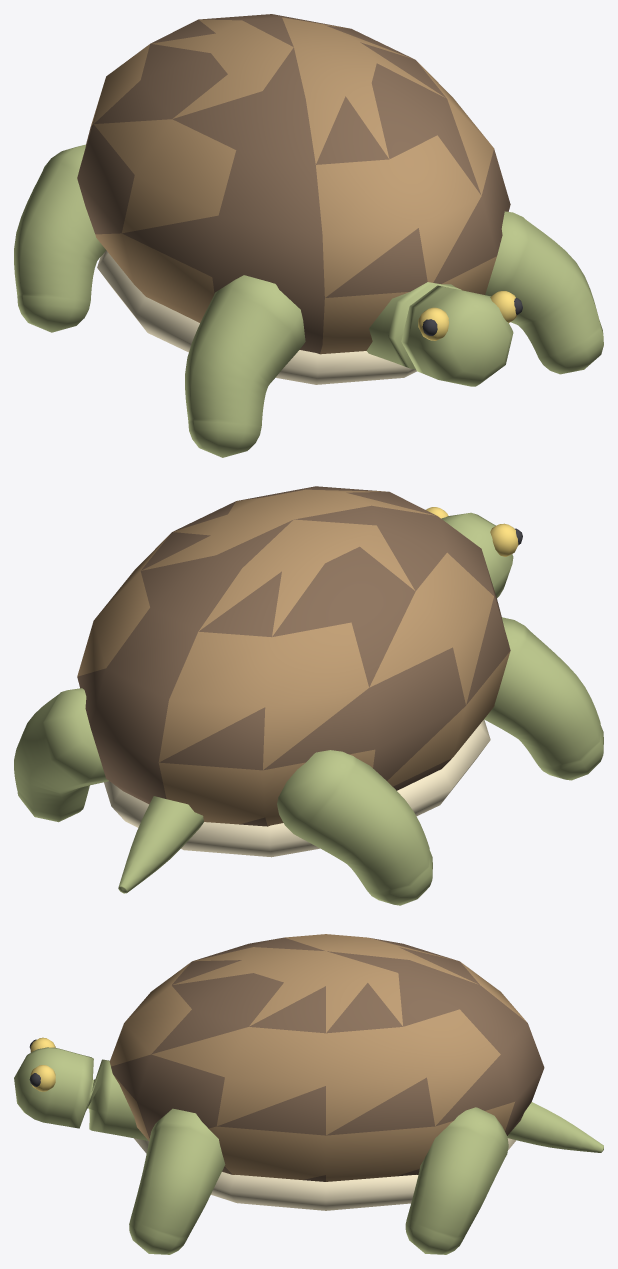
File: reptiles-amphibians-and-minibeasts-galapagos-giant-tor-c38aae69__22443.glb
3 renders of one model, top to bottom at view 1: azimuth 30°, elevation 25°; view 2: azimuth 150°, elevation 25°; view 3: azimuth 270°, elevation 25°, orthographic. The views are drawn at different scales.
Parts seen in each view (by area): view 1: galapagos-giant-tortoise; view 2: galapagos-giant-tortoise; view 3: galapagos-giant-tortoise.
Part boxes in pixels (x1,y1,x2,y2): galapagos-giant-tortoise: (14, 14, 603, 457); galapagos-giant-tortoise: (14, 486, 603, 905); galapagos-giant-tortoise: (14, 934, 603, 1254).
Size of the model in its own units: 0.807 by 0.5483 by 1.25.
